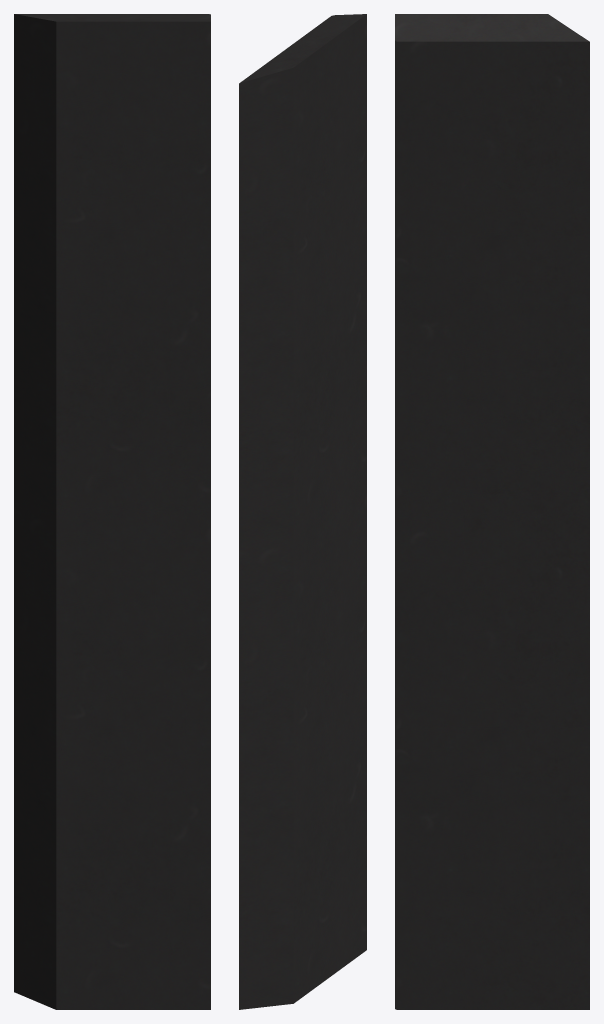
File: A13.1.1 H.WALL. PNL 3877 CR.D.fbx
3 renders of one model, left to right at view 1: azimuth 90°, elevation 25°; view 2: azimuth 150°, elevation 25°; view 3: azimuth 270°, elevation 25°, orthographic. The views are drawn at different scales.
Visible parts, largest first — view 1: Model; view 2: Model; view 3: Model.
Part boxes in pixels (x1,y1,x2,y2): Model: [14, 14, 210, 1009]; Model: [239, 14, 366, 1009]; Model: [395, 14, 589, 1009].
Size of the model in its own units: 150 by 3877 by 700.
